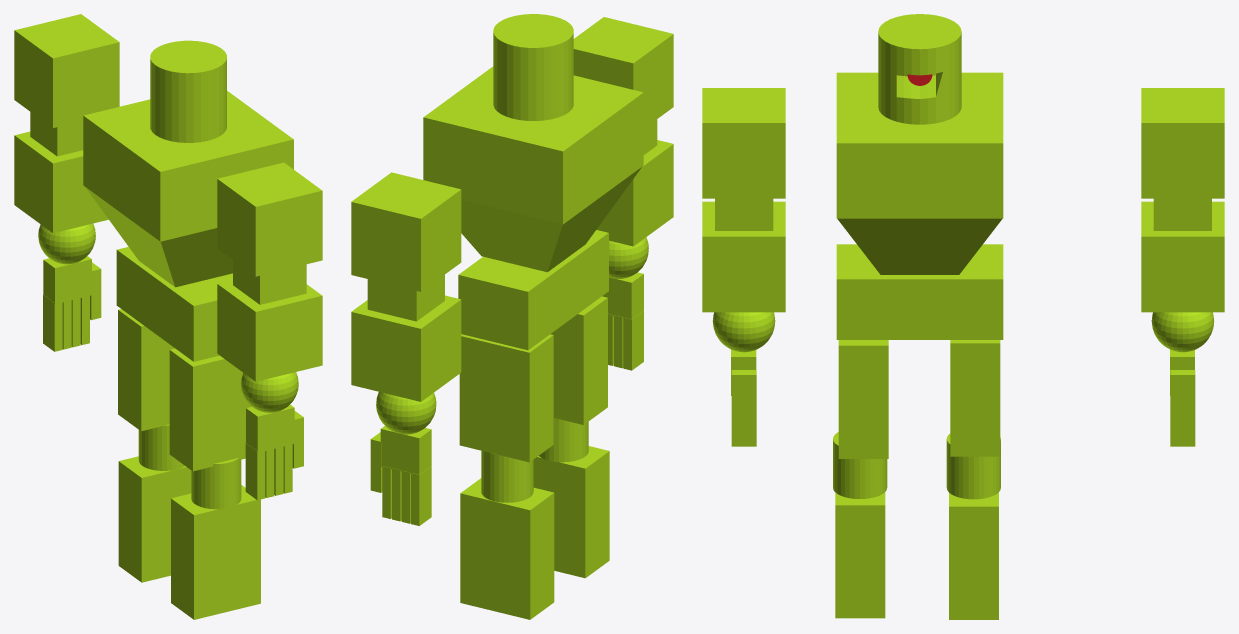
File: MecArm_LeflCop.fbx
The picture shows the model from 3 angles, left to right: view 1: azimuth 30°, elevation 25°; view 2: azimuth 150°, elevation 25°; view 3: azimuth 270°, elevation 25°; orthographic projection. The views are drawn at different scales.
Visible parts, largest first — view 1: Body1, Arm1, Reg1.002, Arm1.001, Arm2, Reg1, Head, Waist, Reg1.003, Arm2.001, Reg1.001, Body2 (+18 smaller); view 2: Body1, Reg1.003, Arm1.001, Waist, Reg1.001, Arm2.001, Head, Reg1.002, Body2, Arm1, Reg1, Arm2 (+14 smaller); view 3: Body1, Waist, Arm1, Arm1.001, Head, Arm2, Arm2.001, Body2, Reg1.002, Reg1.003, Reg1, Reg1.001 (+8 smaller).
Boxes of the visible parts, x1=… form: Body1: x1=83, y1=91, x2=293, y2=241; Arm1: x1=217, y1=162, x2=322, y2=276; Reg1.002: x1=171, y1=485, x2=260, y2=619; Arm1.001: x1=14, y1=14, x2=119, y2=127; Arm2: x1=217, y1=280, x2=322, y2=381; Reg1: x1=169, y1=348, x2=251, y2=471; Head: x1=150, y1=40, x2=226, y2=142; Waist: x1=116, y1=247, x2=232, y2=361; Reg1.003: x1=118, y1=456, x2=191, y2=582; Arm2.001: x1=14, y1=131, x2=108, y2=233; Reg1.001: x1=118, y1=309, x2=174, y2=431; Body2: x1=85, y1=187, x2=232, y2=287; Body1: x1=423, y1=66, x2=643, y2=224; Reg1.003: x1=460, y1=478, x2=554, y2=619; Arm1.001: x1=351, y1=172, x2=461, y2=291; Waist: x1=458, y1=230, x2=608, y2=350; Reg1.001: x1=459, y1=334, x2=553, y2=462; Arm2.001: x1=351, y1=295, x2=461, y2=401; Head: x1=493, y1=14, x2=573, y2=120; Reg1.002: x1=533, y1=446, x2=609, y2=578; Body2: x1=461, y1=166, x2=642, y2=272; Arm1: x1=573, y1=17, x2=673, y2=128; Reg1: x1=550, y1=296, x2=607, y2=424; Arm2: x1=596, y1=140, x2=673, y2=246; Body1: x1=836, y1=72, x2=1003, y2=218; Waist: x1=836, y1=244, x2=1003, y2=339; Arm1: x1=702, y1=88, x2=785, y2=198; Arm1.001: x1=1141, y1=88, x2=1224, y2=198; Head: x1=878, y1=14, x2=961, y2=124; Arm2: x1=702, y1=201, x2=785, y2=312; Arm2.001: x1=1141, y1=201, x2=1224, y2=312; Body2: x1=837, y1=218, x2=1002, y2=274; Reg1.002: x1=835, y1=492, x2=885, y2=618; Reg1.003: x1=949, y1=492, x2=998, y2=619; Reg1: x1=838, y1=340, x2=888, y2=458; Reg1.001: x1=950, y1=340, x2=1000, y2=456.
Size of the model in its own units: 400 by 1511 by 1253.
Materials: 10 (10 with a texture image).
